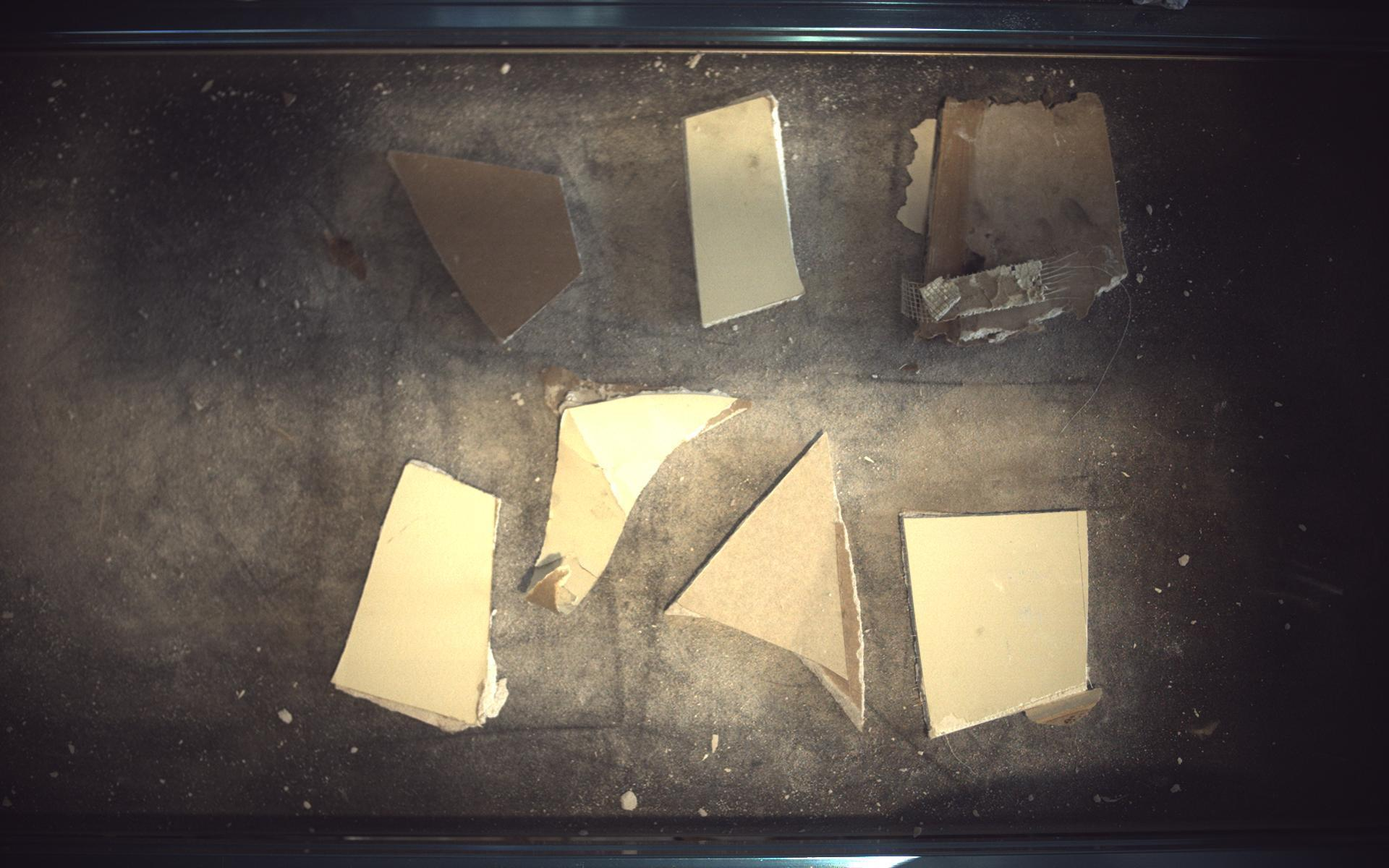gypsum_board: (667, 433, 866, 731), (899, 92, 1129, 342), (522, 367, 752, 615), (331, 461, 508, 733), (903, 511, 1104, 739), (388, 150, 582, 342), (684, 91, 806, 327)
